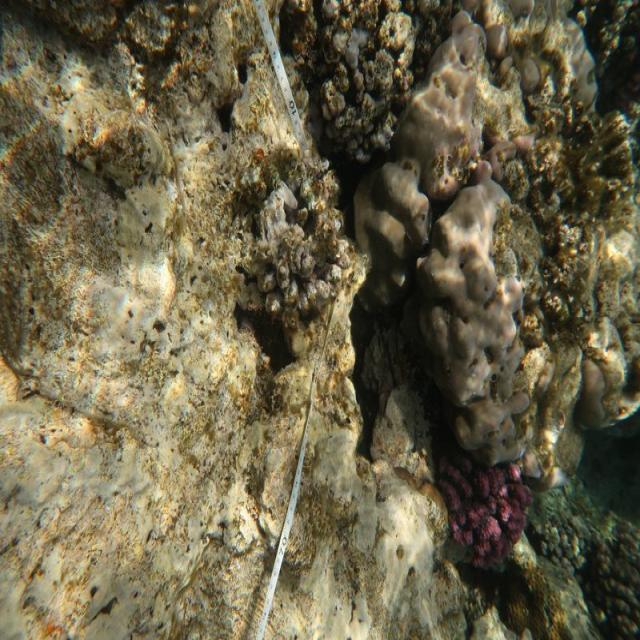Healthy Coral: (440, 451, 549, 576)
